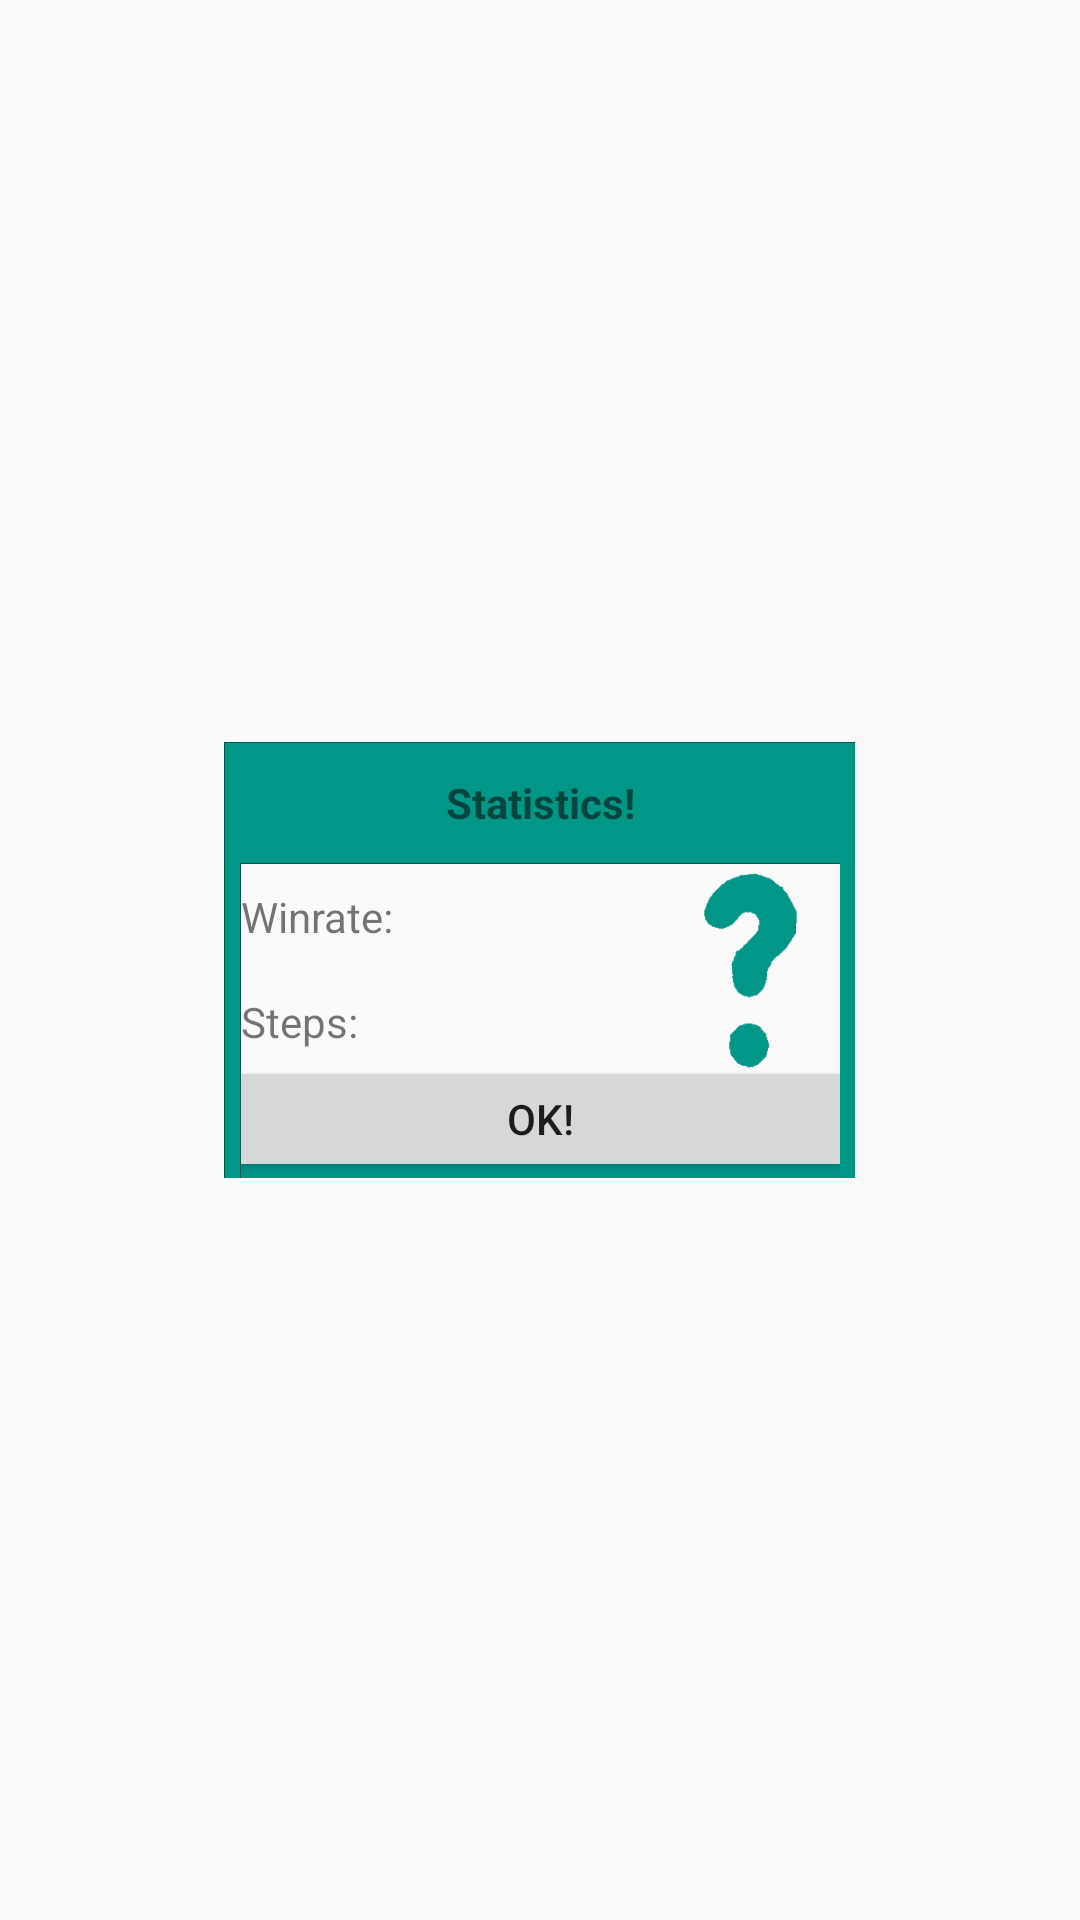

Icons on this 1080w x 1920h Android screen, each with its box as (x1, y1, x2, y2):
quest: (704, 873, 797, 1068)
